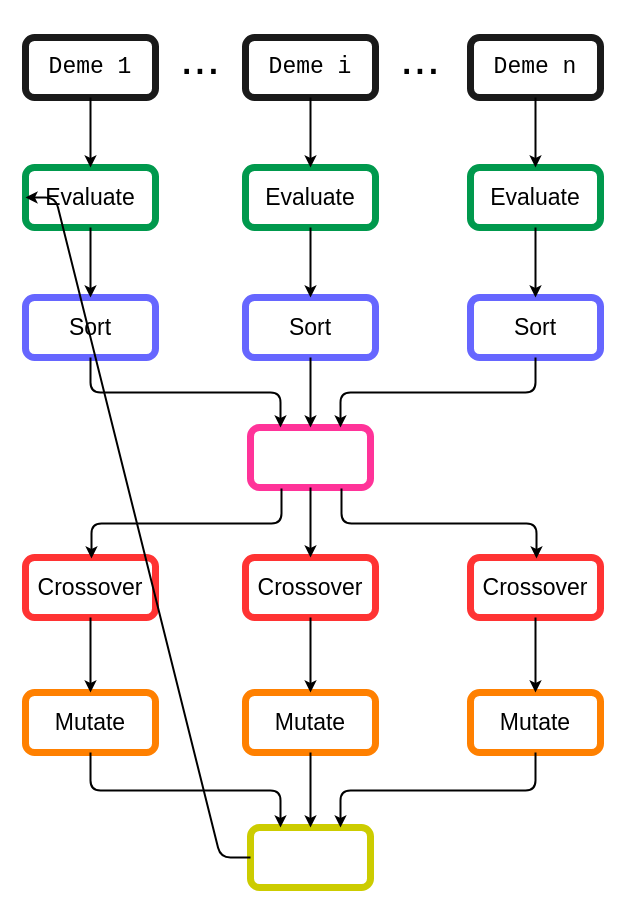
This 621x908 diagram has some shape labels left out. The box of each missing label's shape, as (x1, y1, x2, y2) in pixels:
Find best: (246, 424, 374, 490)
Migrate: (246, 824, 374, 890)
